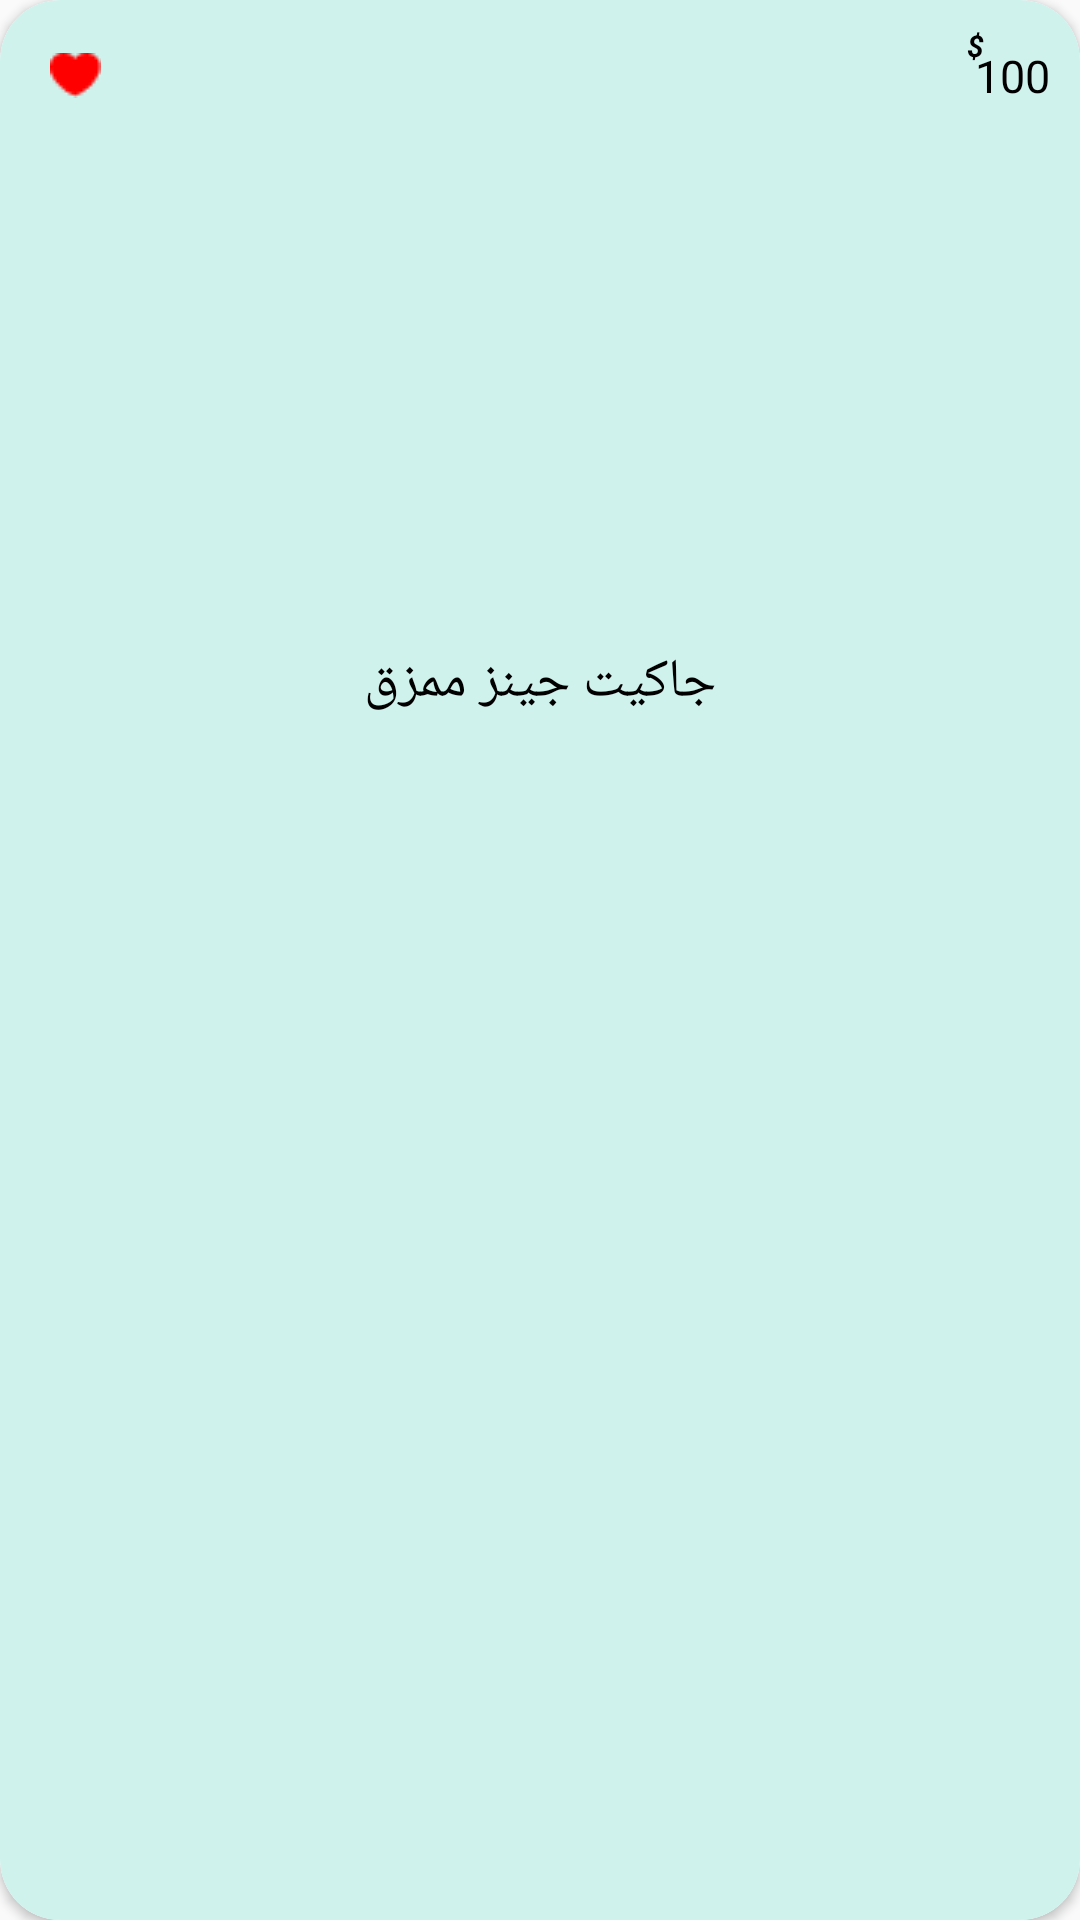

Screen size 1080 x 1920. Icon name, then its center in pixels as (x,y):
like: (75,75)
